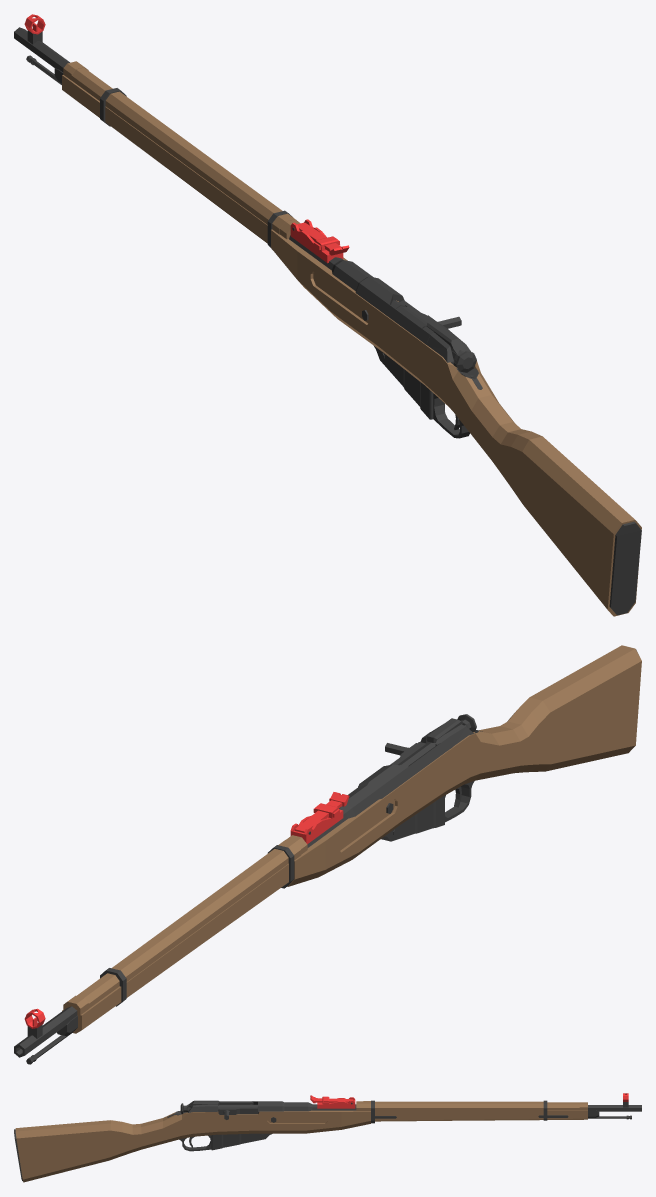
Rendered from sniper_4.glb.
The picture shows the model from 3 angles, top to bottom: view 1: azimuth 30°, elevation 25°; view 2: azimuth 150°, elevation 25°; view 3: azimuth 270°, elevation 25°; orthographic projection. The views are drawn at different scales.
Visible parts, largest first — view 1: p14_accent, p8_accent, p7_accent, p16_paint, p41_paint, p24_paint; view 2: p14_accent, p8_accent, p7_accent, p16_paint, p24_paint, p0_paint, p17_del; view 3: p14_accent, p7_accent, p8_accent, p16_paint, p24_paint, p0_paint, p17_del, p26_paint, p32_paint, p31_paint, p27_paint.
Boxes of the visible parts, x1,y1,x2,y2 form: p14_accent: (271,229,641,616); p8_accent: (71,67,282,224); p7_accent: (62,75,267,243); p16_paint: (289,235,448,344); p41_paint: (609,521,641,615); p24_paint: (373,345,444,419); p14_accent: (287,645,641,886); p8_accent: (76,849,288,1008); p7_accent: (62,863,288,1033); p16_paint: (307,731,452,847); p24_paint: (381,795,444,841); p0_paint: (14,1006,77,1057); p17_del: (290,809,343,844); p14_accent: (15,1110,370,1182); p7_accent: (375,1110,587,1121); p8_accent: (375,1101,579,1110); p16_paint: (210,1101,356,1113); p24_paint: (211,1133,272,1150); p0_paint: (588,1105,641,1111); p17_del: (317,1097,355,1108); p26_paint: (218,1107,257,1114); p32_paint: (179,1135,211,1151); p31_paint: (187,1100,219,1107); p27_paint: (218,1104,257,1110).
Size of the model in its own units: 0.0584 by 0.1886 by 1.23.
